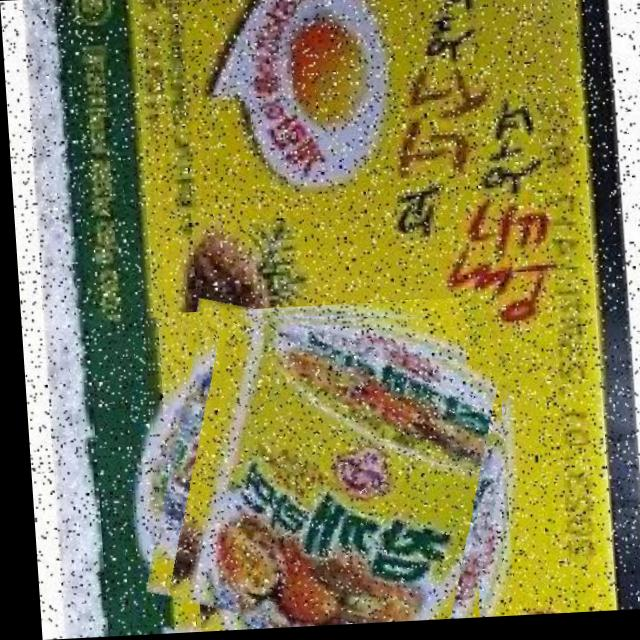Miscellaneous: (138, 305, 507, 635)
